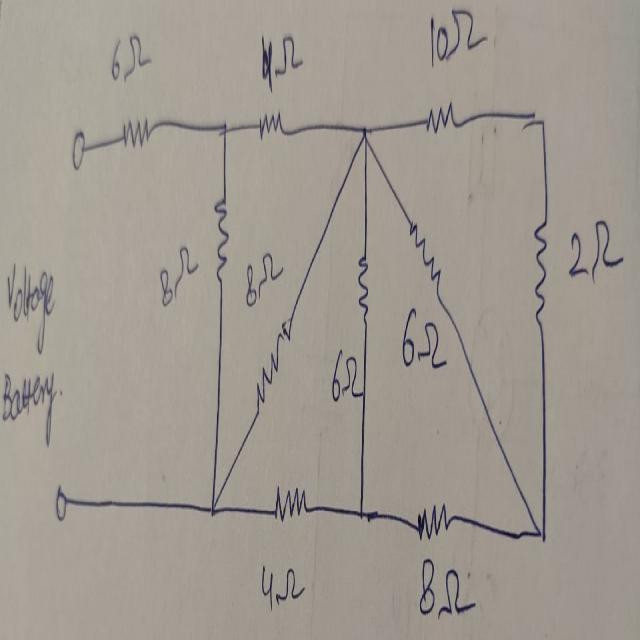junction: (217, 114, 233, 154), (353, 494, 374, 524), (357, 118, 372, 154), (538, 108, 548, 140), (208, 494, 217, 524), (538, 522, 547, 548)
resistor: (254, 319, 290, 419), (409, 213, 445, 309), (533, 207, 547, 330), (425, 96, 460, 138), (214, 190, 229, 284), (120, 108, 152, 150), (416, 500, 449, 539), (256, 101, 287, 142), (275, 485, 306, 520), (358, 235, 370, 325)
terminal: (54, 482, 69, 526), (71, 128, 86, 170)
text: (1, 263, 58, 447), (418, 553, 476, 620), (428, 0, 487, 65), (570, 216, 624, 282), (400, 303, 447, 373), (160, 240, 196, 320), (260, 30, 303, 90), (260, 557, 306, 607), (329, 344, 365, 405), (110, 27, 152, 78), (246, 248, 276, 318)
